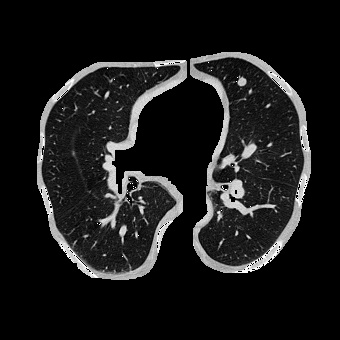PN: (238, 78, 246, 86)
